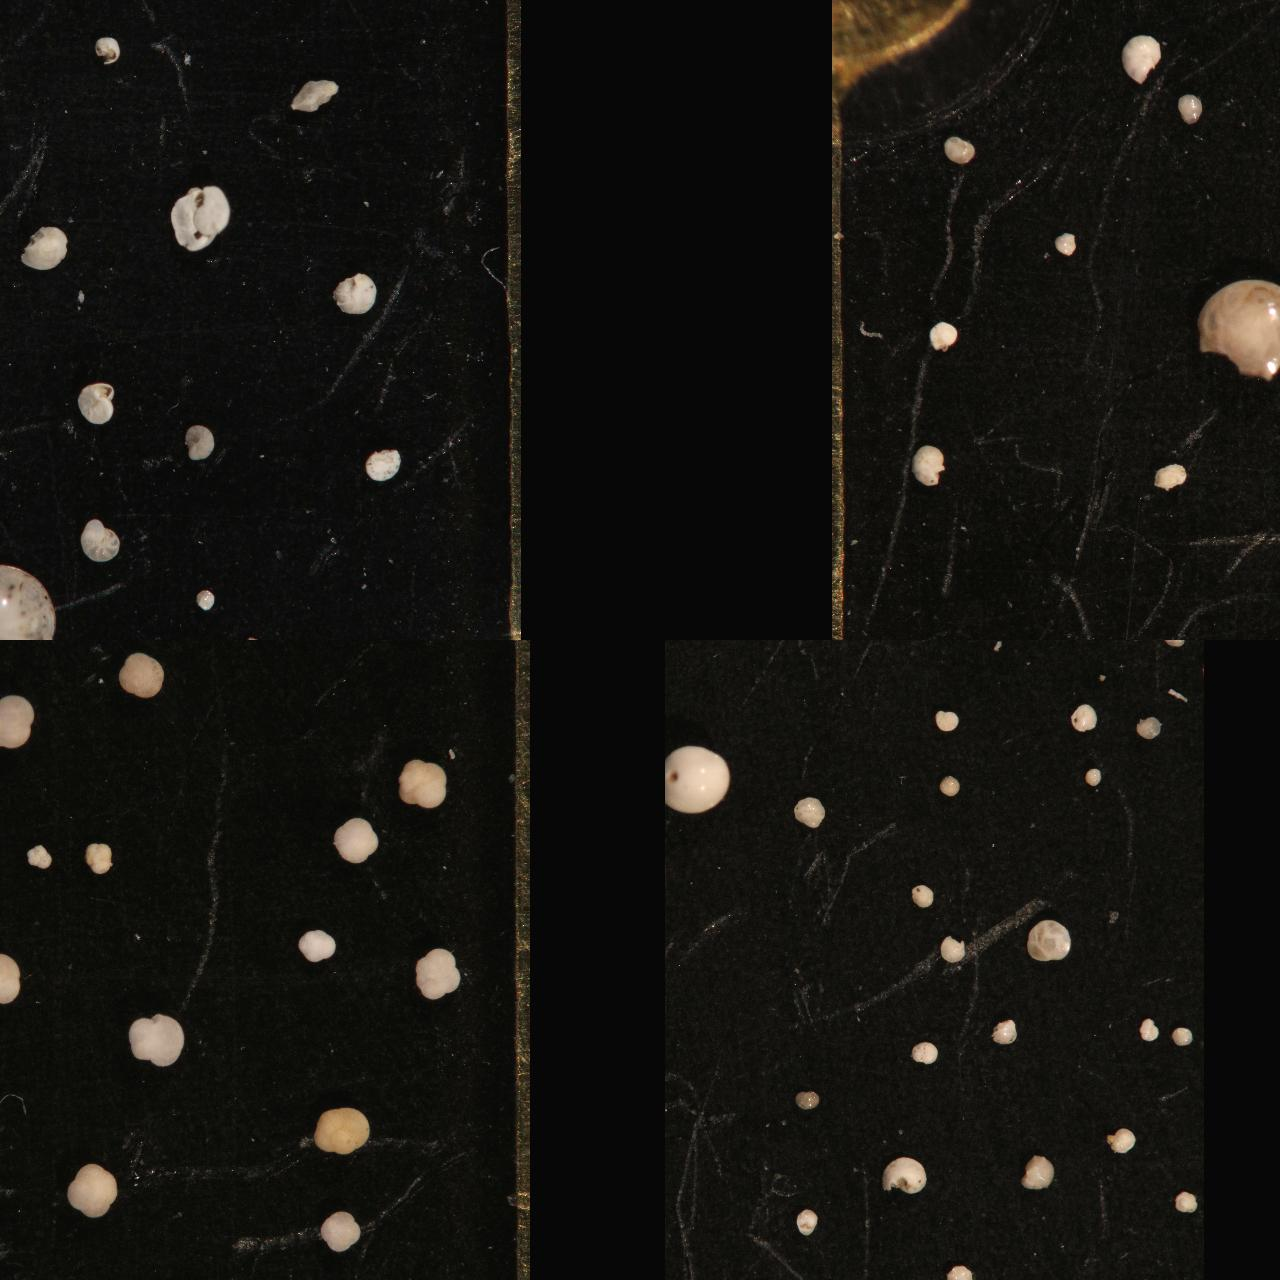calcareous: (1194, 274, 1280, 381), (0, 0, 91, 60), (665, 740, 731, 813), (0, 561, 57, 640), (171, 183, 231, 252), (0, 0, 69, 57), (19, 225, 69, 272), (1119, 34, 1163, 84), (665, 1145, 702, 1201), (1026, 918, 1073, 962), (333, 272, 377, 316), (879, 1153, 926, 1194), (290, 77, 340, 115), (79, 517, 120, 563), (871, 640, 931, 670), (76, 381, 116, 425), (665, 844, 695, 897), (912, 443, 945, 486), (1021, 1151, 1055, 1192), (365, 445, 402, 482), (81, 0, 130, 27), (665, 1068, 692, 1115), (790, 795, 825, 830), (184, 423, 215, 463), (898, 640, 945, 666), (894, 640, 941, 665), (665, 640, 700, 673), (685, 640, 734, 663), (0, 397, 23, 444), (942, 132, 975, 165), (927, 319, 959, 352), (1152, 461, 1186, 491), (0, 568, 21, 615), (93, 35, 123, 67), (665, 816, 686, 862), (1177, 90, 1204, 125), (1105, 1125, 1137, 1155), (982, 640, 1023, 662), (938, 934, 968, 964), (75, 0, 122, 18), (989, 1017, 1019, 1046), (1070, 702, 1098, 731), (911, 1040, 938, 1067), (1136, 715, 1163, 742), (0, 195, 18, 236), (794, 1207, 818, 1237), (665, 962, 685, 998), (951, 640, 990, 658), (933, 707, 960, 733), (230, 0, 268, 18), (794, 1087, 821, 1111), (910, 881, 934, 908), (1173, 1190, 1199, 1214), (154, 0, 189, 18), (350, 0, 383, 19), (1054, 231, 1076, 258), (36, 0, 69, 18), (665, 640, 688, 663), (938, 772, 960, 797), (1138, 1016, 1159, 1042), (1172, 1023, 1194, 1047), (944, 1262, 973, 1280), (195, 587, 215, 613), (0, 0, 25, 19), (0, 583, 15, 612), (171, 0, 205, 13), (1083, 767, 1103, 787), (0, 154, 13, 184), (430, 0, 455, 15), (760, 640, 784, 655), (1160, 640, 1186, 654), (0, 0, 16, 19), (0, 0, 19, 16), (156, 0, 178, 13), (1080, 640, 1102, 653), (0, 0, 15, 19), (447, 0, 468, 12), (302, 0, 324, 12)
planktic: (64, 1160, 120, 1219), (127, 1013, 185, 1068), (313, 1104, 370, 1156), (411, 946, 459, 1000), (399, 757, 448, 809), (116, 649, 164, 701), (332, 816, 379, 865), (0, 692, 34, 748), (320, 1210, 361, 1253), (0, 951, 28, 1005), (297, 926, 338, 962), (80, 640, 135, 667), (0, 805, 27, 857), (0, 1145, 27, 1196), (0, 1087, 27, 1137), (224, 640, 274, 666), (79, 640, 127, 665), (0, 869, 25, 915), (327, 640, 373, 665), (83, 840, 113, 876), (0, 787, 22, 829), (0, 640, 22, 678), (26, 842, 53, 871), (0, 640, 25, 669), (0, 640, 22, 660), (0, 640, 12, 655)
